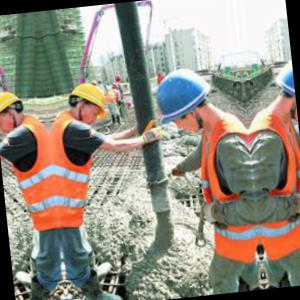helmet: (149, 58, 223, 137), (267, 50, 298, 126), (64, 78, 112, 127), (1, 85, 32, 135)
